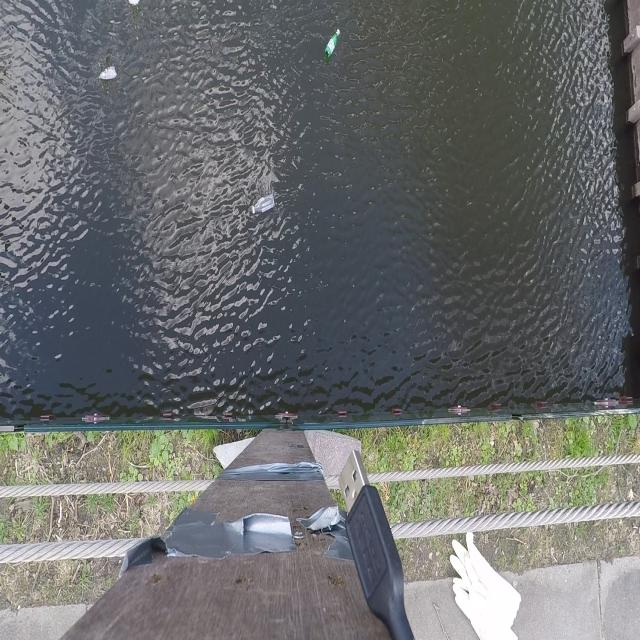Bouteille plastique: (249, 191, 279, 220), (322, 26, 342, 61)
